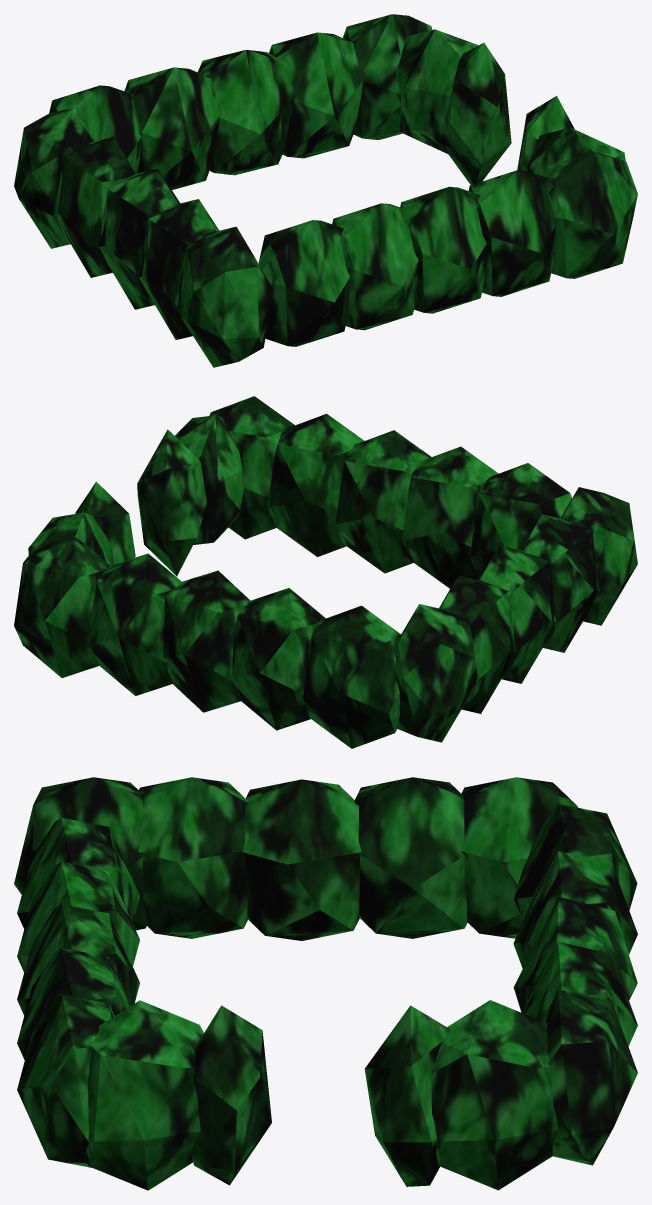
3 views of the same model, one above another, from view 1: azimuth 30°, elevation 25°; view 2: azimuth 150°, elevation 25°; view 3: azimuth 270°, elevation 25° (orthographic). The views are drawn at different scales.
Parts seen in each view (by area): view 1: Icosphere_012; view 2: Icosphere_012; view 3: Icosphere_012.
Boxes of the visible parts, x1,y1,x2,y2 form: Icosphere_012: (14, 14, 637, 367); Icosphere_012: (14, 396, 637, 748); Icosphere_012: (14, 777, 637, 1190).
Bounding box in the file's own units: 2.6 × 2.37 × 0.7899.
1 material, 1 textured.
